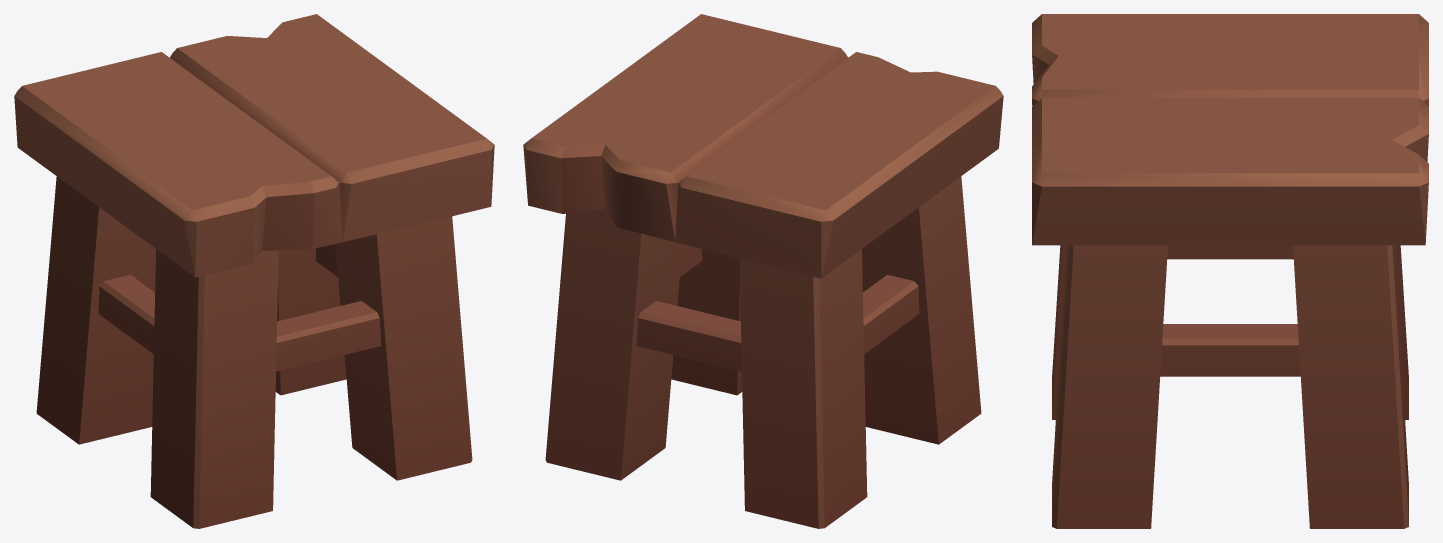
Rendered from table_small.glb.
3 renders of one model, left to right at view 1: azimuth 30°, elevation 25°; view 2: azimuth 150°, elevation 25°; view 3: azimuth 270°, elevation 25°, orthographic. The views are drawn at different scales.
Parts seen in each view (by area): view 1: table_small; view 2: table_small; view 3: table_small.
Boxes of the visible parts, left/top/right/bottom form: table_small: left=14, top=14, right=494, bottom=528; table_small: left=523, top=14, right=1003, bottom=528; table_small: left=1032, top=14, right=1428, bottom=528.
Bounding box in the file's own units: 1 × 1 × 1.
